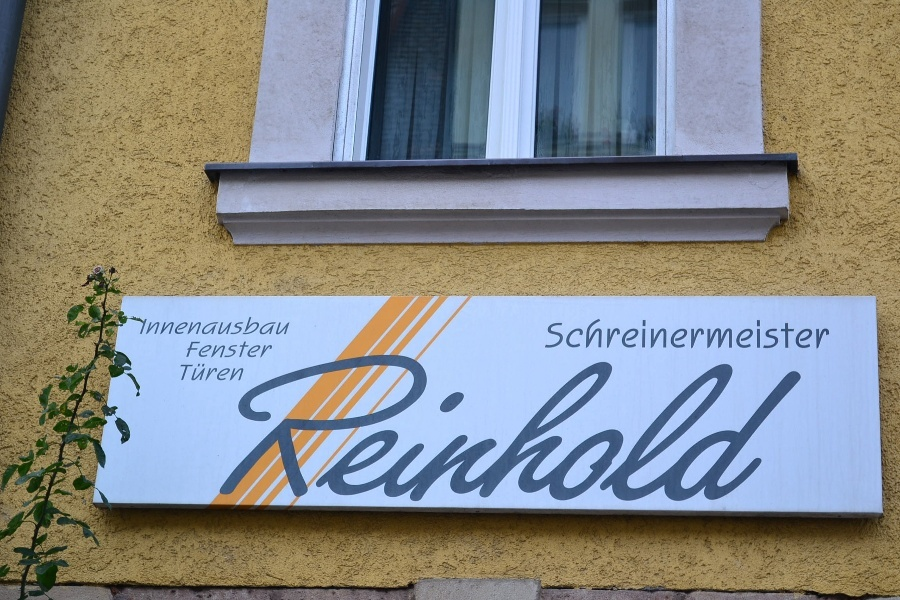text: (273, 339, 288, 511), (289, 339, 304, 511), (305, 339, 320, 511), (321, 339, 336, 511), (337, 339, 352, 511), (353, 339, 368, 511), (369, 339, 384, 511), (385, 339, 400, 511), (401, 339, 416, 511), (417, 339, 432, 511), (433, 339, 448, 511), (449, 339, 464, 511), (465, 339, 480, 511), (481, 339, 496, 511), (497, 339, 512, 511), (513, 339, 528, 511), (529, 339, 544, 511), (545, 339, 560, 511), (561, 339, 576, 511), (577, 339, 592, 511), (593, 339, 608, 511), (609, 339, 624, 511), (625, 339, 640, 511), (641, 339, 656, 511), (657, 339, 672, 511), (673, 339, 688, 511), (689, 339, 704, 511), (705, 339, 720, 511), (721, 339, 736, 511), (737, 339, 752, 511), (753, 339, 768, 511), (769, 339, 784, 511), (785, 339, 800, 511), (801, 339, 812, 511), (262, 339, 272, 511), (561, 315, 576, 353), (577, 315, 592, 353), (593, 315, 608, 353), (609, 315, 624, 353), (625, 315, 640, 353), (641, 315, 656, 353), (657, 315, 672, 353), (673, 315, 688, 353), (689, 315, 704, 353), (705, 315, 720, 353), (721, 315, 736, 353), (737, 315, 752, 353), (753, 315, 768, 353), (769, 315, 784, 353), (785, 315, 800, 353), (801, 315, 816, 353), (817, 315, 832, 353), (549, 315, 560, 353), (145, 316, 160, 337), (161, 316, 176, 337), (177, 316, 192, 337), (193, 316, 208, 337), (209, 316, 224, 337), (225, 316, 240, 337), (241, 316, 256, 337), (257, 316, 272, 337), (273, 316, 288, 337), (193, 341, 208, 361), (209, 341, 224, 361), (225, 341, 240, 361), (241, 341, 256, 361), (257, 341, 272, 361), (193, 362, 208, 382), (209, 362, 224, 382), (225, 362, 240, 382), (181, 362, 192, 382), (289, 316, 293, 337), (241, 362, 245, 382), (190, 341, 192, 361), (273, 341, 275, 361)
